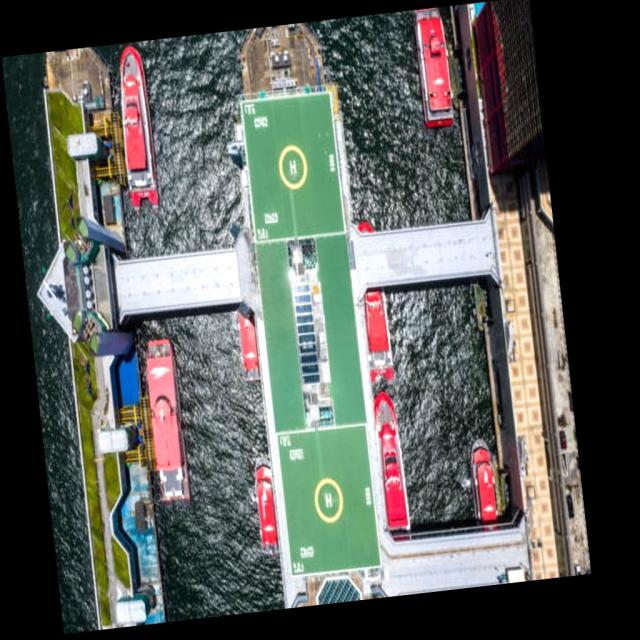helipad: (312, 475, 344, 525), (276, 143, 310, 189)
